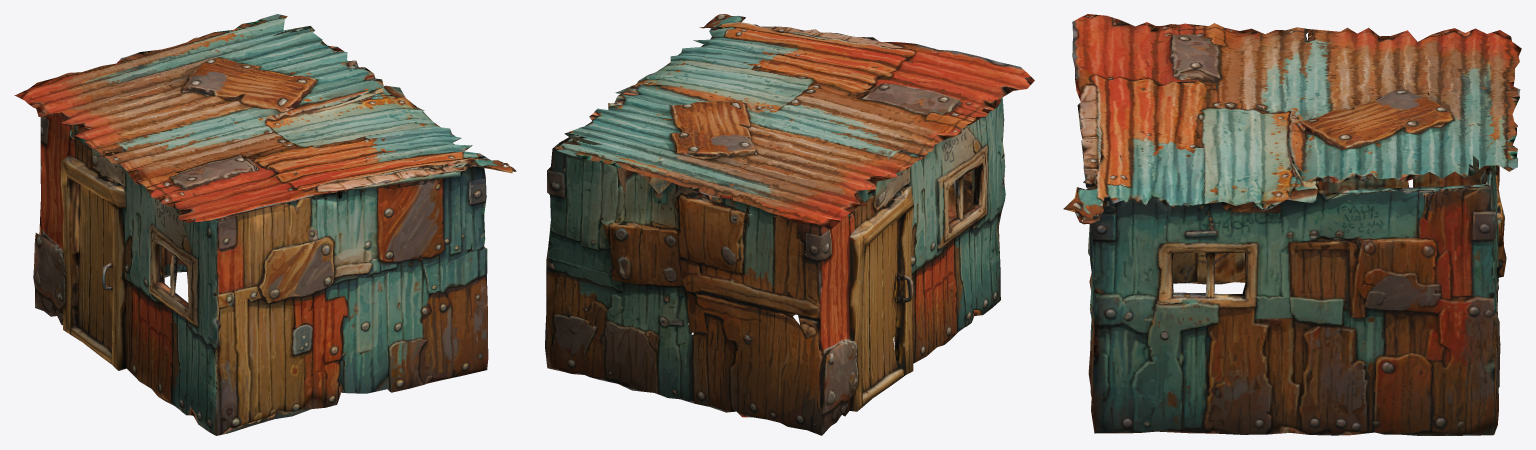
The model's file is Settle_Shack.fbx.
3 renders of one model, left to right at view 1: azimuth 30°, elevation 25°; view 2: azimuth 150°, elevation 25°; view 3: azimuth 270°, elevation 25°, orthographic. The views are drawn at different scales.
Parts seen in each view (by area): view 1: texture_mapping; view 2: texture_mapping; view 3: texture_mapping.
Boxes of the visible parts, left/top/right/bottom form: texture_mapping: left=14, top=14, right=516, bottom=435; texture_mapping: left=545, top=14, right=1034, bottom=435; texture_mapping: left=1063, top=14, right=1521, bottom=435.
Size of the model in its own units: 0.9176 by 0.9869 by 0.6202.
1 material, 1 textured.
